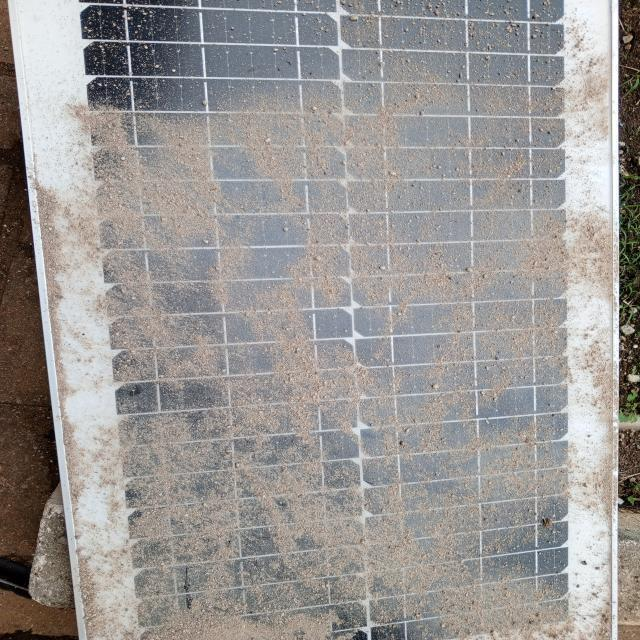Surface Contaminant: (90, 20, 609, 639)
